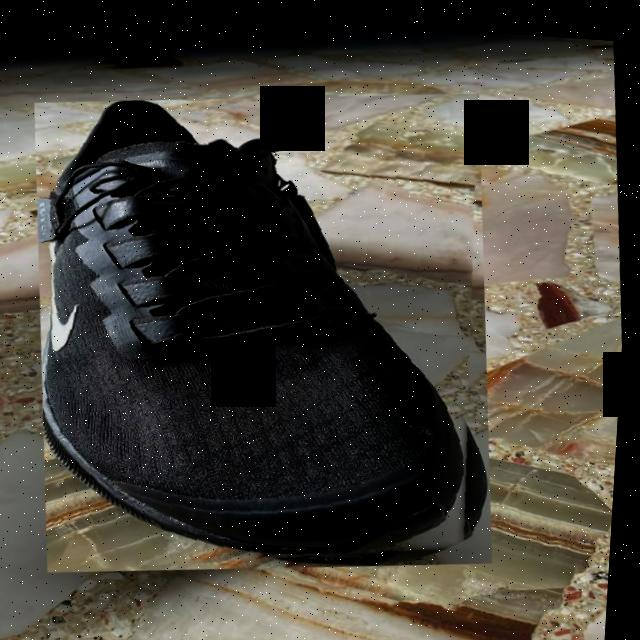shoe: (14, 63, 520, 594)
